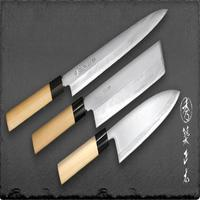knife: (5, 8, 179, 168)
